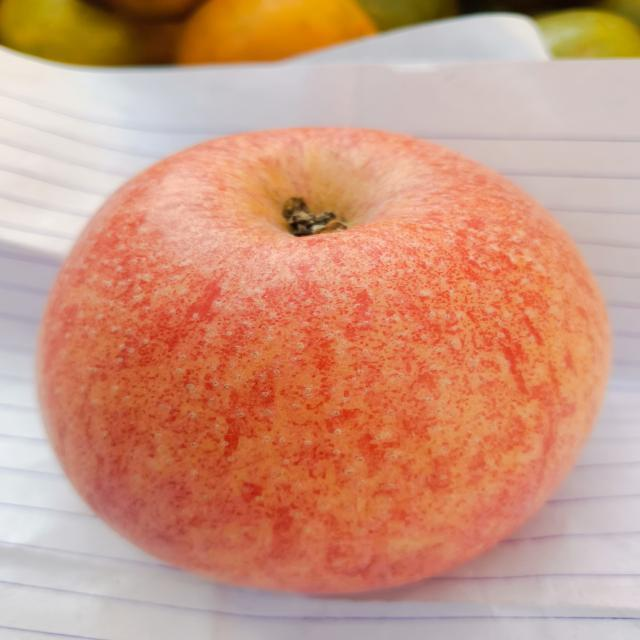Fresh Apple: (37, 124, 612, 600)
